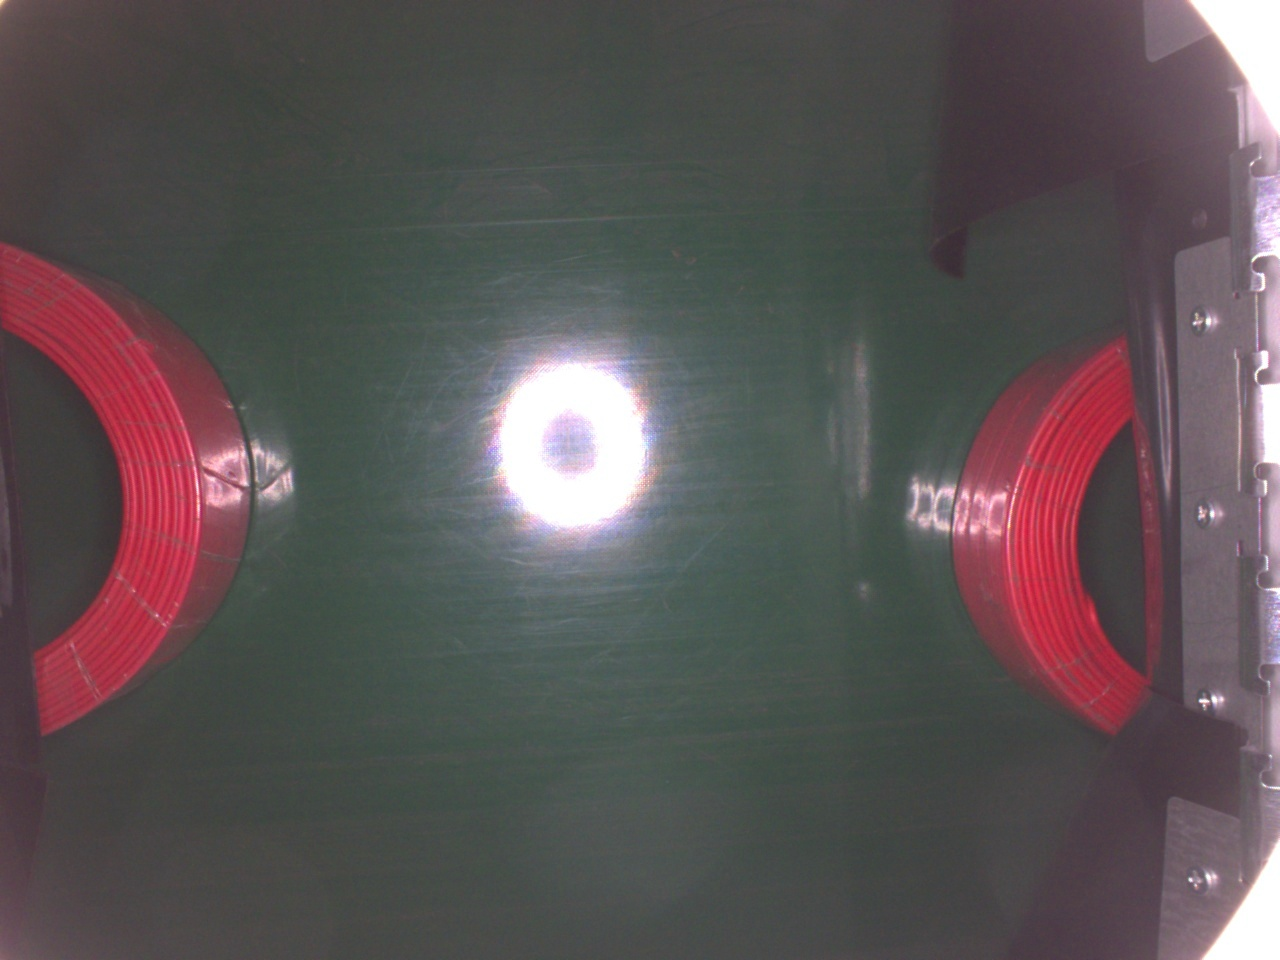red: (0, 239, 262, 758), (950, 327, 1148, 755)
